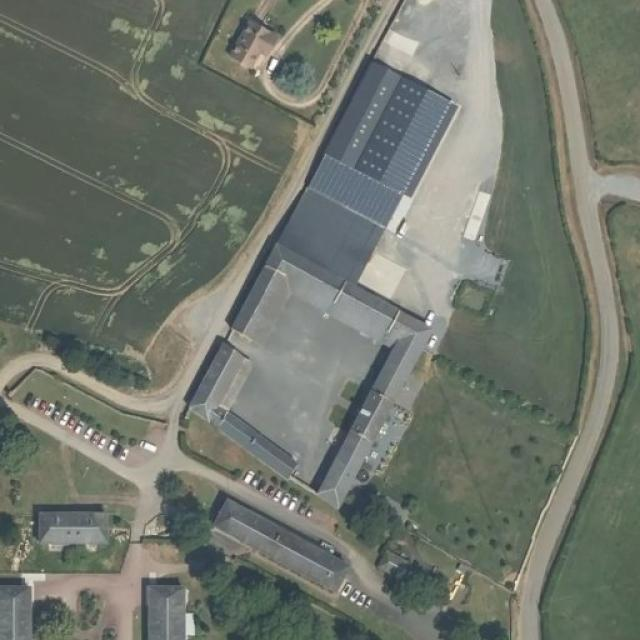maison: (206, 482, 350, 572), (12, 497, 116, 551), (219, 8, 281, 76)
usine: (174, 223, 441, 487), (305, 43, 474, 212), (276, 171, 390, 264)
